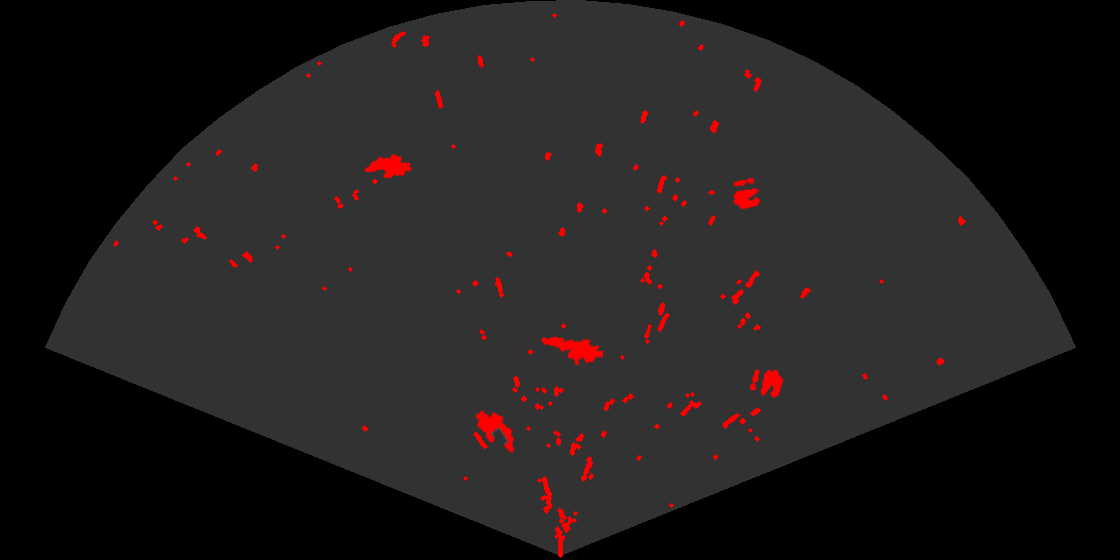AUV: (474, 409, 516, 454), (363, 153, 413, 180)
ball: (748, 367, 785, 400), (731, 176, 762, 211)
frogman: (539, 335, 603, 367)
